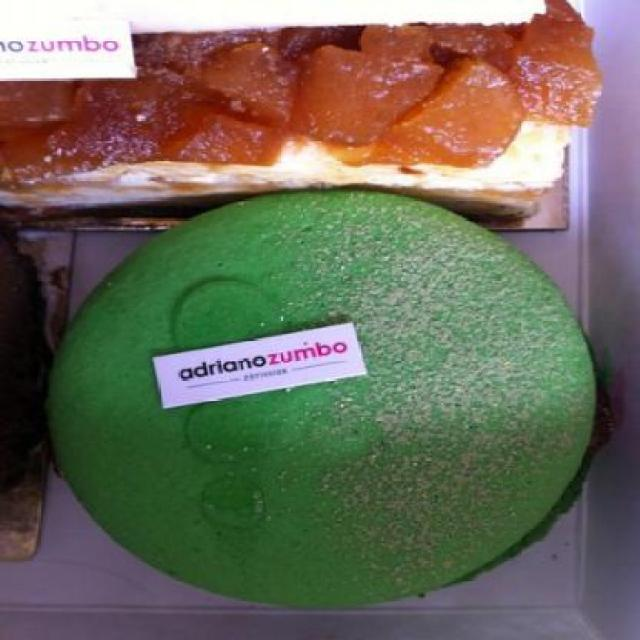Macaron: (30, 188, 639, 640)
